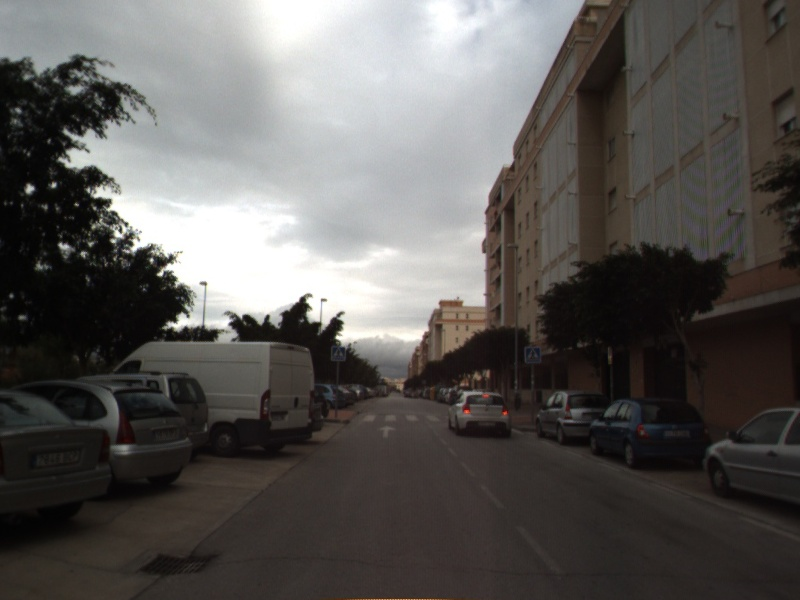STRAIGHT: (375, 423, 399, 440)
